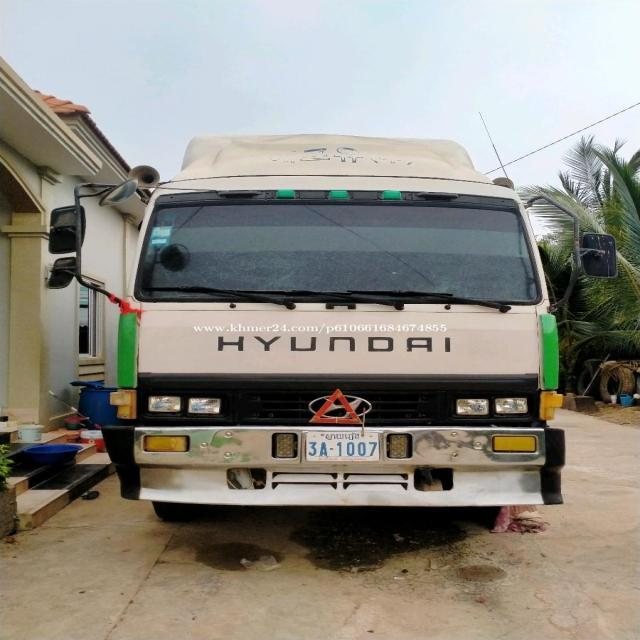Svay_Rieng: (325, 432, 360, 440)
